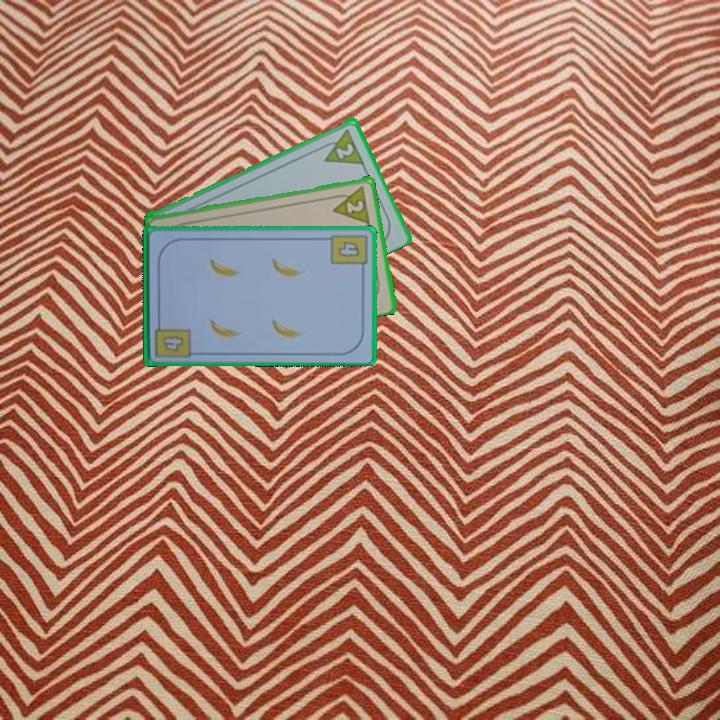2p: (327, 182, 373, 226), (332, 139, 357, 161)
4b: (327, 230, 369, 274), (159, 332, 187, 354)
